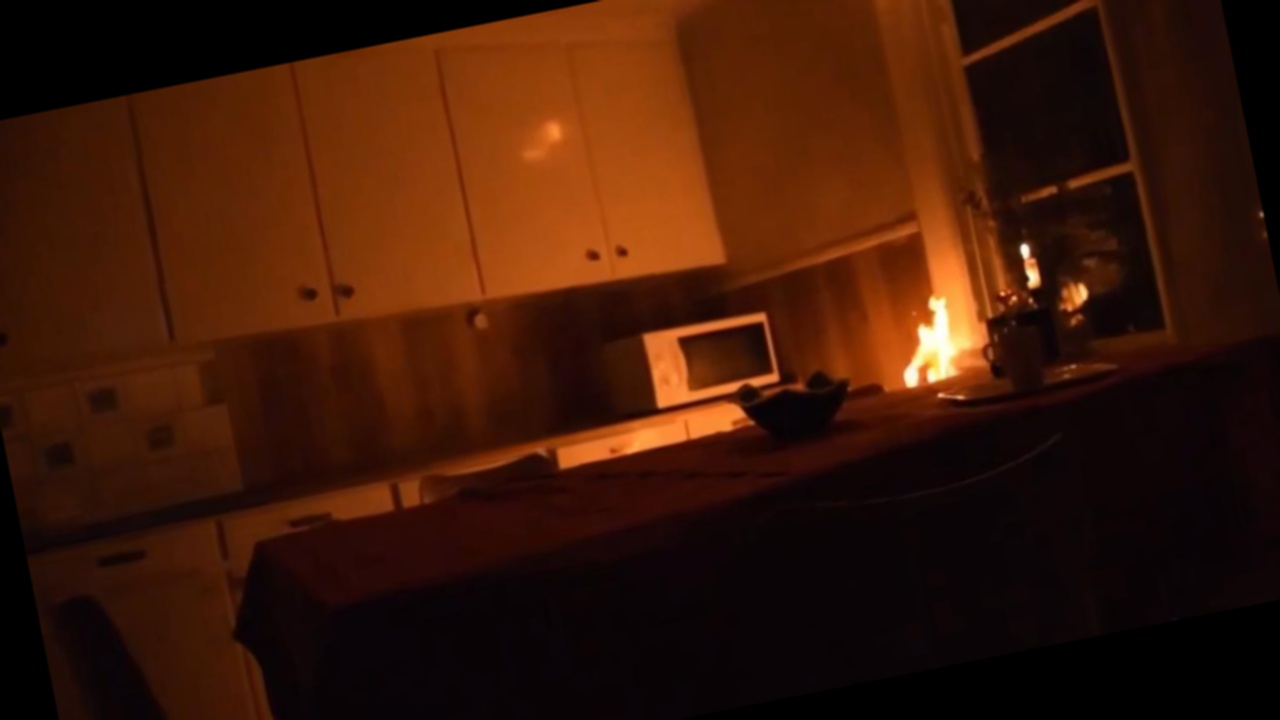fire: (874, 273, 1001, 404)
